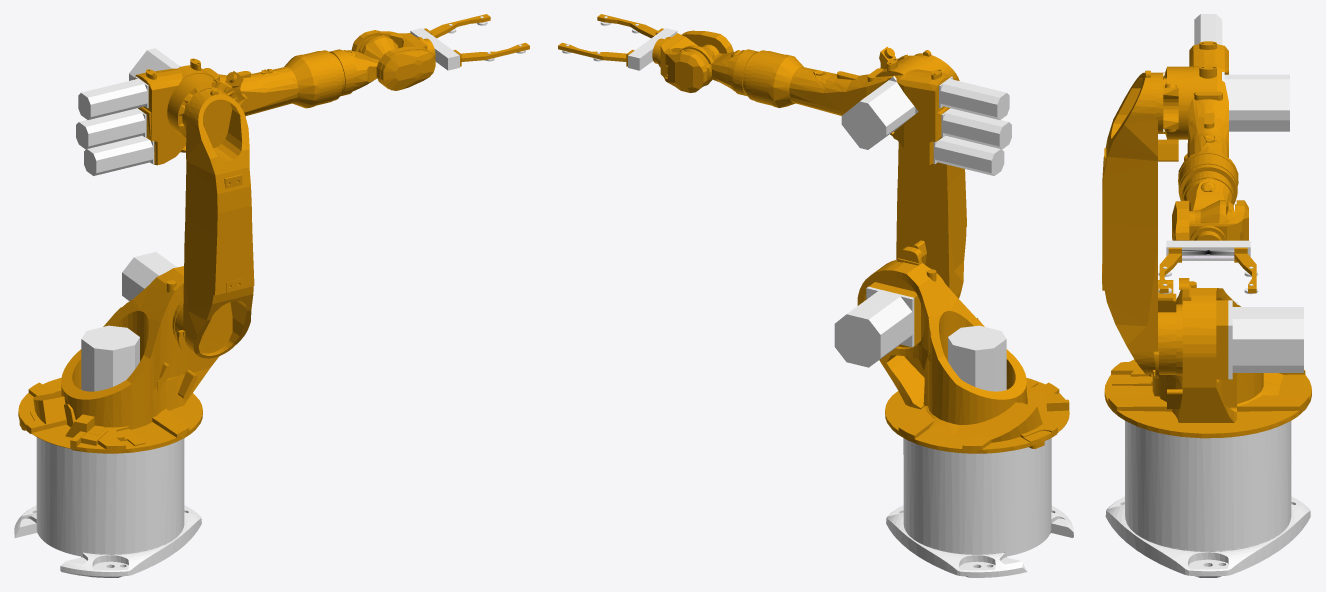
Rendered from Roboter_8kV.dae.
3 renders of one model, left to right at view 1: azimuth 30°, elevation 25°; view 2: azimuth 150°, elevation 25°; view 3: azimuth 270°, elevation 25°, orthographic. The views are drawn at different scales.
Visible parts, largest first — view 1: Stand, r_Arm1, r_Arm2, r_Arm3, r_Motor_unten, r_Arm4, r_Arm5, r_Minimotor1, r_Minimotor2, r_Minimotor3, r_Motor_mitte, r_Motor_oben (+1 smaller); view 2: r_Arm1, Stand, r_Arm3, r_Arm2, r_Motor_mitte, r_Motor_unten, r_Arm4, r_Motor_oben, r_Arm5, r_Minimotor1, r_Minimotor2, r_Minimotor3 (+1 smaller); view 3: Stand, r_Arm2, r_Arm1, r_Arm3, r_Motor_mitte, r_Motor_oben, r_Arm4, r_Arm5, r_Greifer, r_Minimotor1, Arm_rechts, Arm_links.
Boxes of the visible parts, x1,y1,x2,y2 form: Stand: (14,437,201,577); r_Arm1: (18,266,218,453); r_Arm2: (175,88,254,358); r_Arm3: (134,54,319,165); r_Motor_unten: (81,325,139,391); r_Arm4: (303,35,398,105); r_Arm5: (351,30,435,90); r_Minimotor1: (78,76,148,119); r_Minimotor2: (76,108,146,149); r_Minimotor3: (84,135,154,175); r_Motor_mitte: (122,252,176,301); r_Motor_oben: (129,48,180,80); r_Arm1: (857,246,1069,453); Stand: (886,438,1073,577); r_Arm3: (768,46,951,165); r_Arm2: (896,50,966,298); r_Motor_mitte: (834,286,914,367); r_Motor_unten: (948,325,1006,391); r_Arm4: (679,44,784,105); r_Motor_oben: (841,76,918,149); r_Arm5: (652,30,733,92); r_Minimotor1: (939,76,1009,119); r_Minimotor2: (941,108,1011,149); r_Minimotor3: (933,135,1004,175); Stand: (1105,421,1310,577); r_Arm2: (1102,70,1178,378); r_Arm1: (1104,278,1311,438); r_Arm3: (1163,41,1238,185); r_Motor_mitte: (1228,300,1303,379); r_Motor_oben: (1222,72,1289,131); r_Arm4: (1178,154,1237,223); r_Arm5: (1172,200,1248,240); r_Greifer: (1166,240,1250,260); r_Minimotor1: (1194,14,1222,44); Arm_rechts: (1159,247,1181,293); Arm_links: (1234,247,1256,293).
Size of the model in its own units: 16.13 by 5.46 by 14.7.
